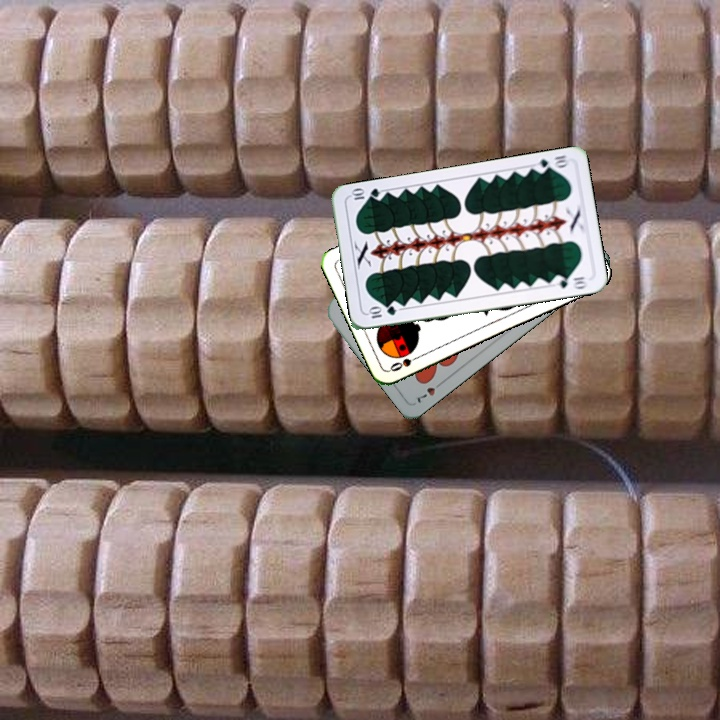G10: (532, 151, 572, 175), (364, 302, 399, 321)
H7: (411, 376, 446, 406)
SO: (386, 351, 424, 374)
